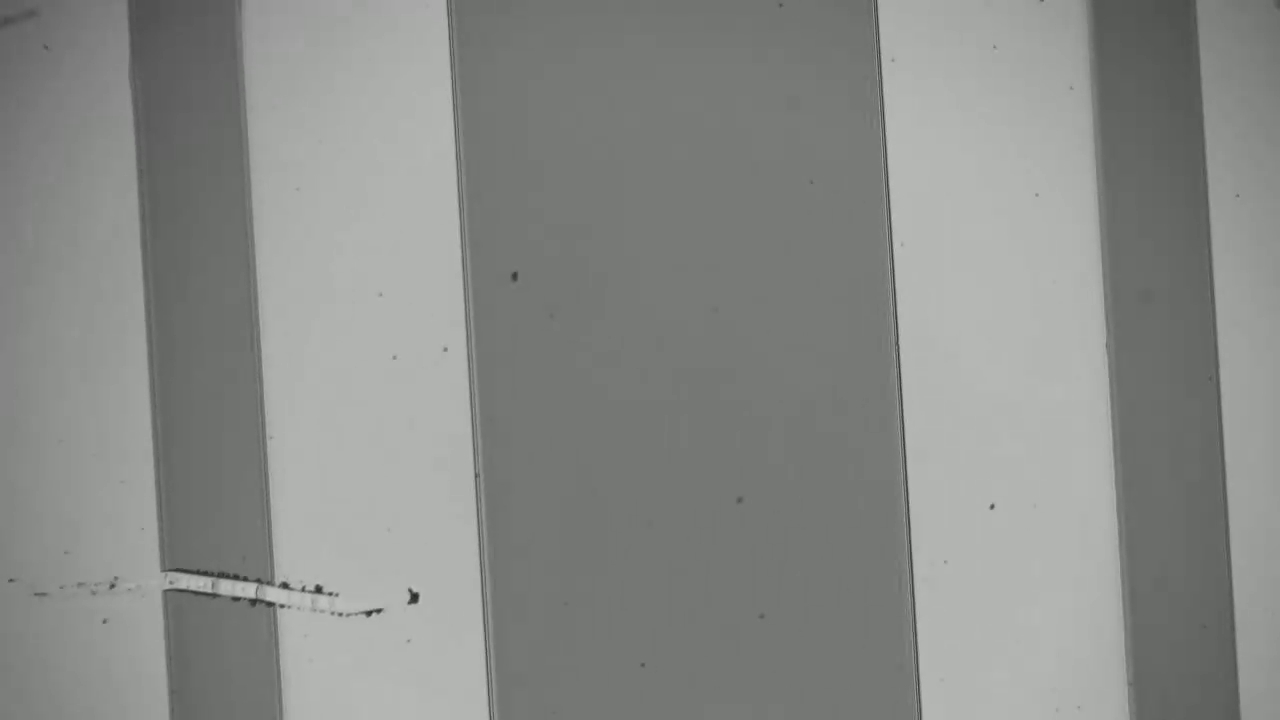Short_circuit: (138, 538, 305, 632)
